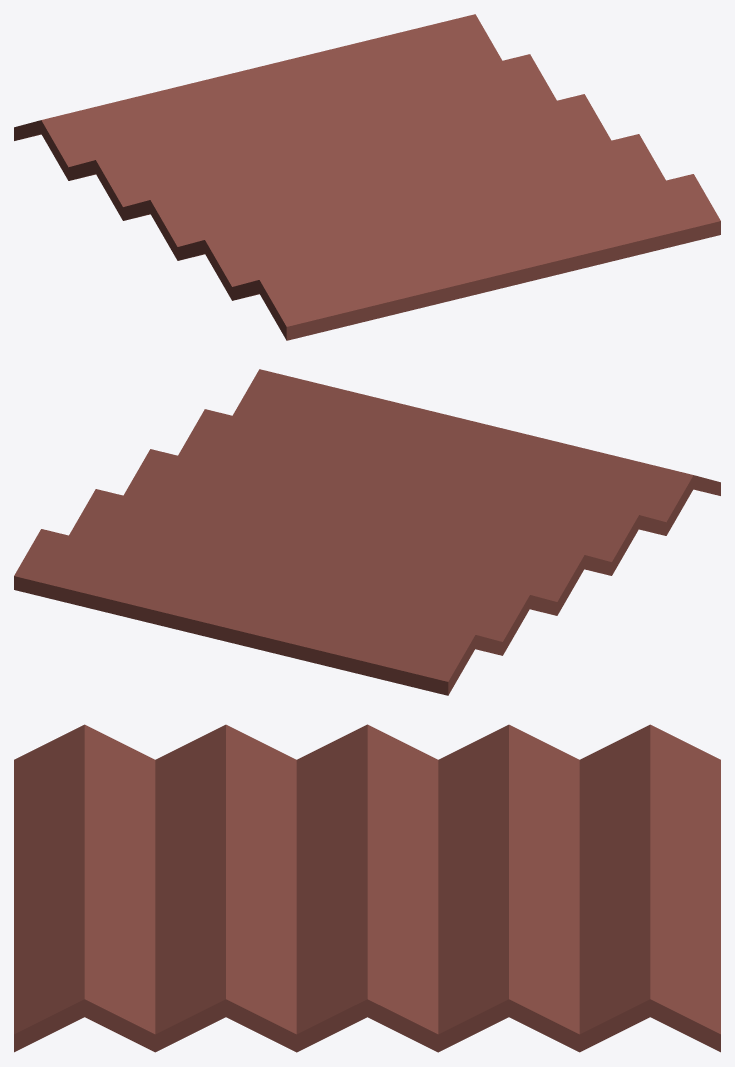
Rendered from Environment_RifledRoofSide_01.fbx.
3 views of the same model, one above another, from view 1: azimuth 30°, elevation 25°; view 2: azimuth 150°, elevation 25°; view 3: azimuth 270°, elevation 25° (orthographic). The views are drawn at different scales.
Visible parts, largest first — view 1: Environment_RifledRoofSide_01; view 2: Environment_RifledRoofSide_01; view 3: Environment_RifledRoofSide_01.
Boxes of the visible parts, bbox=[...] form: Environment_RifledRoofSide_01: bbox=[14, 14, 720, 340]; Environment_RifledRoofSide_01: bbox=[14, 369, 720, 695]; Environment_RifledRoofSide_01: bbox=[14, 724, 720, 1052].
Size of the model in its own units: 200 by 18.11 by 218.
